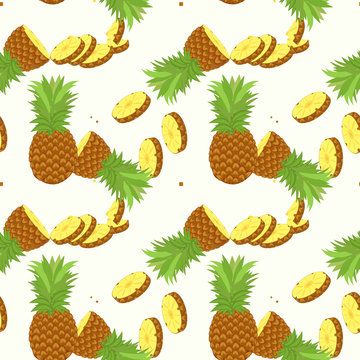Pineapple: (26, 77, 81, 184), (209, 80, 262, 185), (29, 254, 79, 360), (210, 259, 258, 360)
